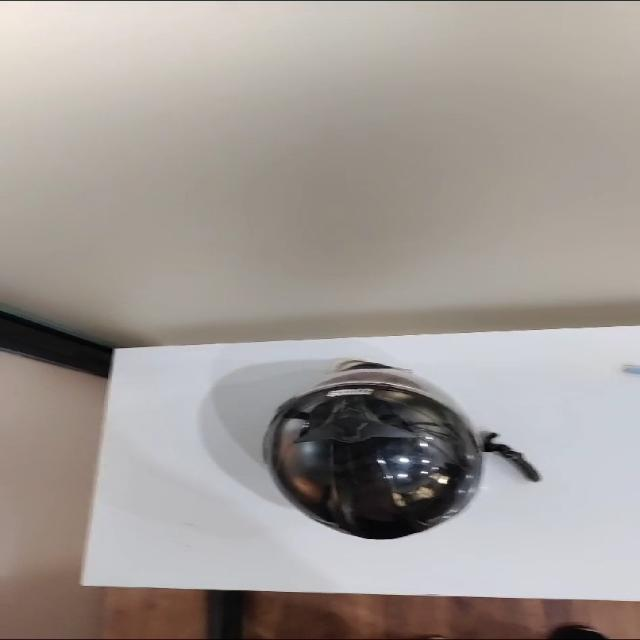helmet: (263, 361, 539, 538)
